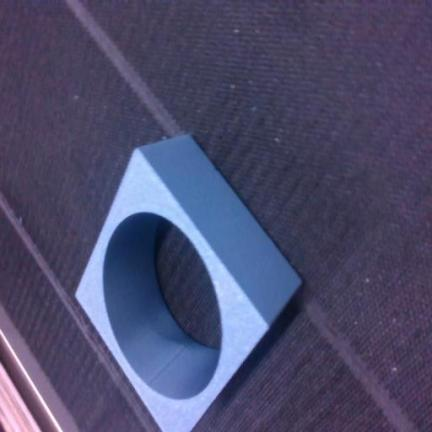hole: (76, 135, 300, 431)
